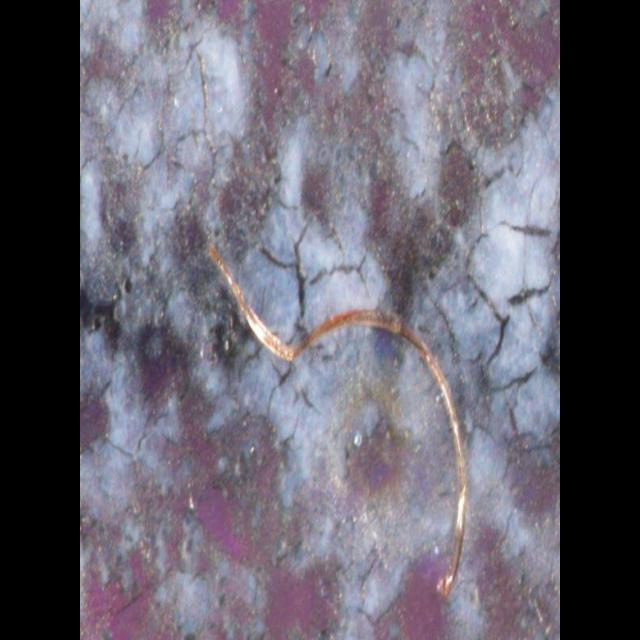Fibre: (208, 240, 468, 598)
